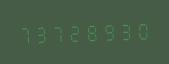eight: (85, 19, 101, 43)
nine: (102, 19, 118, 42)
seven: (17, 22, 33, 45), (51, 21, 67, 44)
three: (34, 21, 50, 45), (119, 18, 135, 42)
two: (68, 20, 84, 43)
zero: (136, 18, 152, 41)
